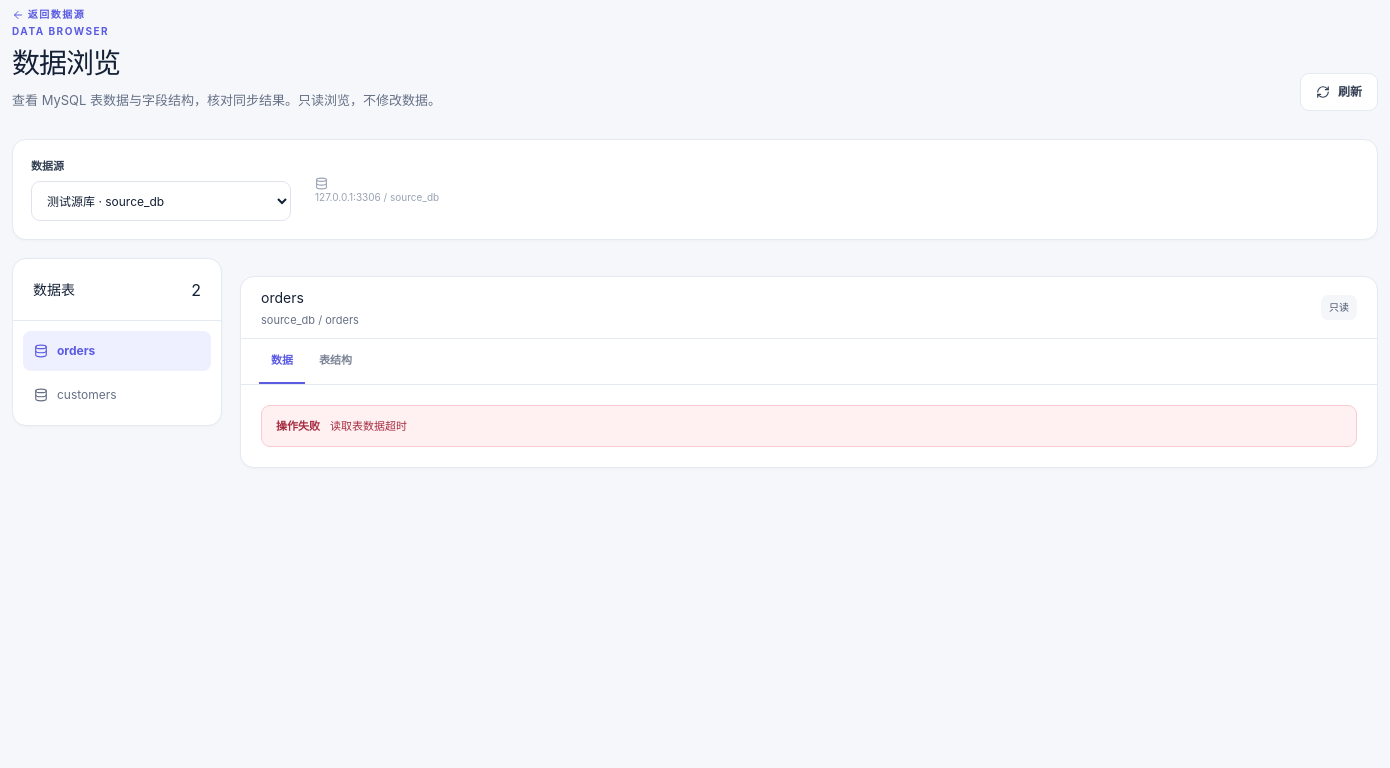
Test: DataBrowser › allows retrying a failed row query
Expected: the text "读取表数据超时" is shown, x1=330 y1=418 x2=407 y2=434
Step 1. Click the button "刷新" → coordinates (1339, 92), box x1=1300 y1=72 x2=1378 y2=110
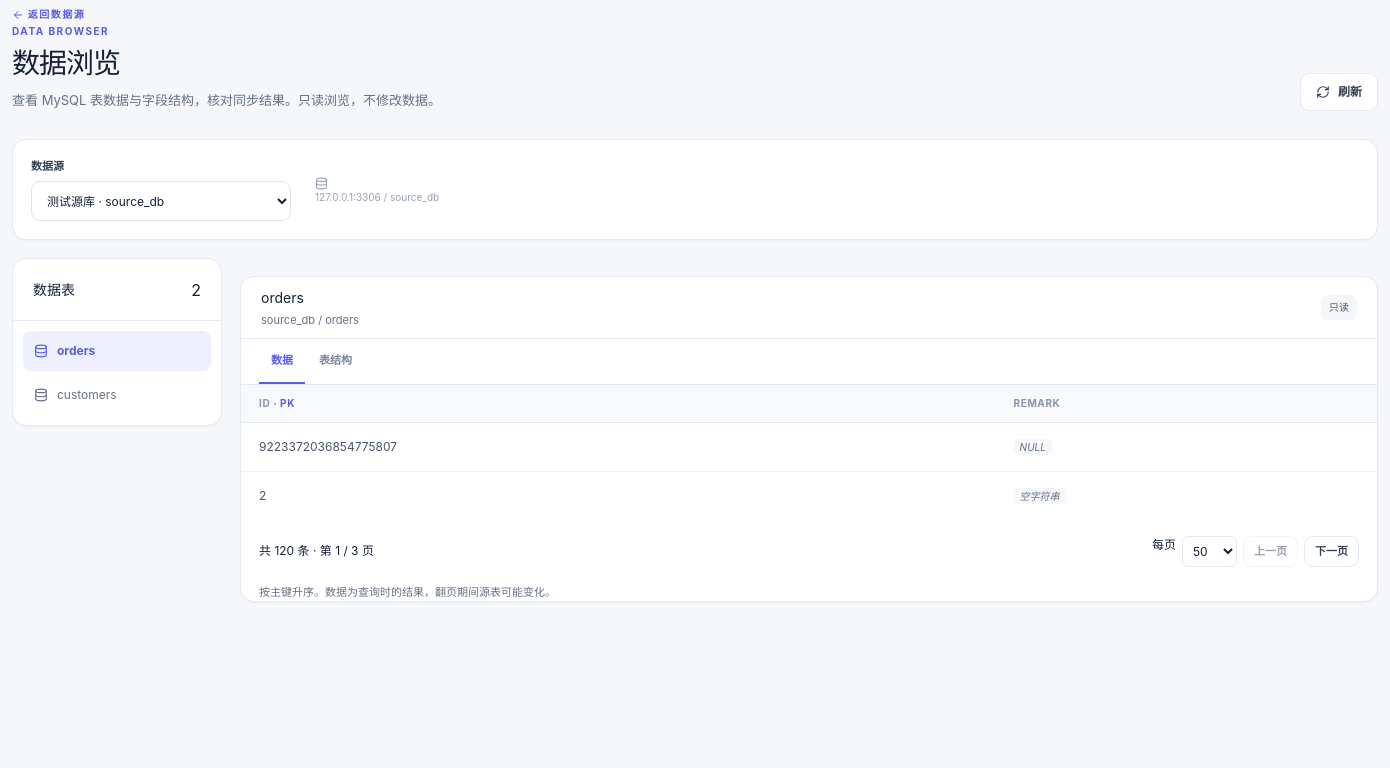
Expected: the text "9223372036854775807" is shown, x1=259 y1=438 x2=397 y2=454
